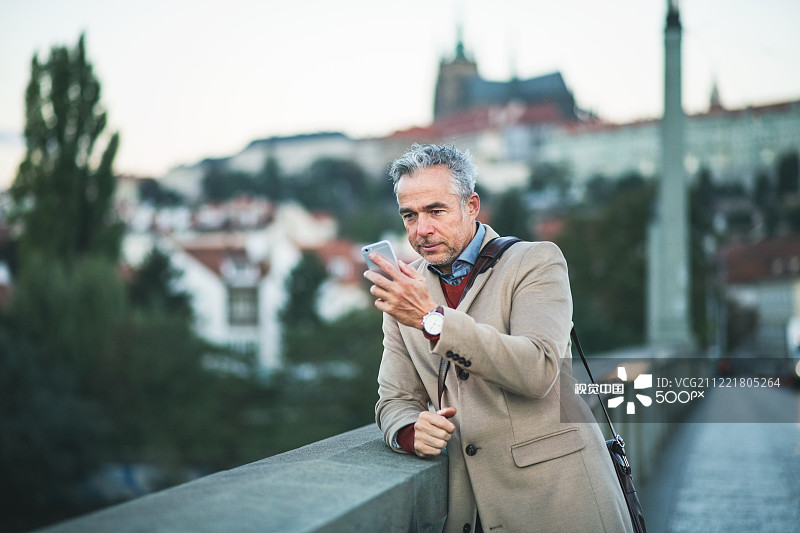no-phone: (405, 396, 467, 469)
taking photos: (341, 232, 449, 342)
